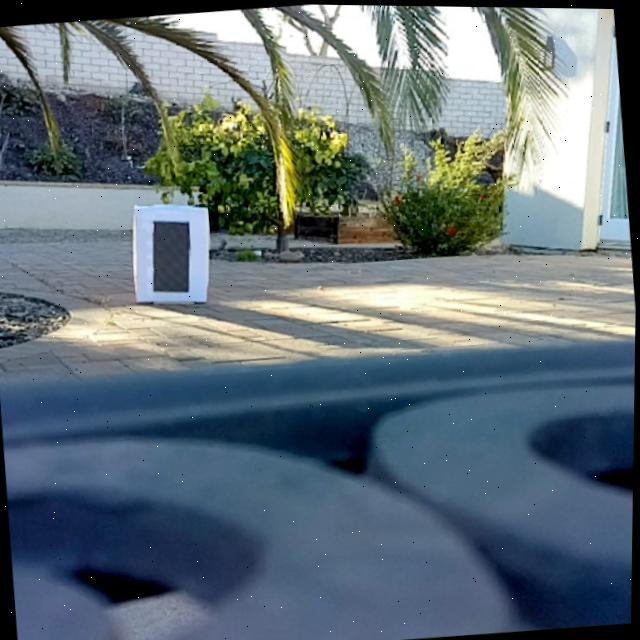led: (150, 217, 195, 295)
